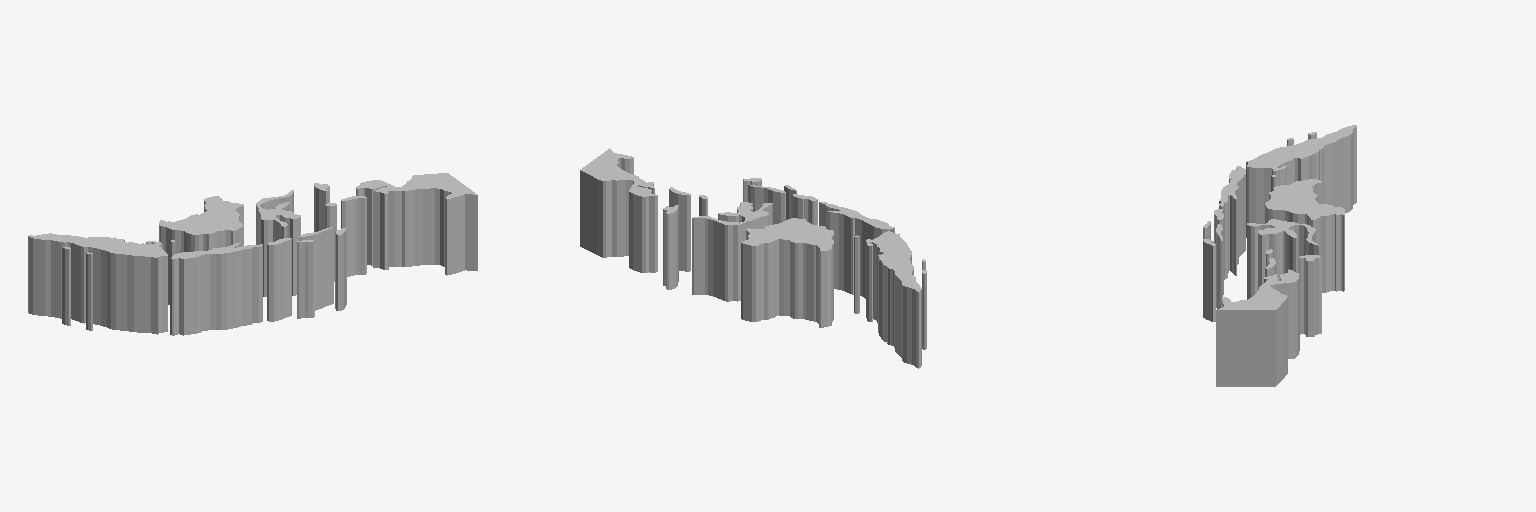
3 views of the same model, side by side, from view 1: azimuth 30°, elevation 25°; view 2: azimuth 150°, elevation 25°; view 3: azimuth 270°, elevation 25° (orthographic).
Parts seen in each view (by area): view 1: ID.002_CUCurve.1716; view 2: ID.002_CUCurve.1716; view 3: ID.002_CUCurve.1716.
Part boxes in pixels (x1,y1,x2,y2): ID.002_CUCurve.1716: (28, 173, 477, 335); ID.002_CUCurve.1716: (580, 148, 926, 368); ID.002_CUCurve.1716: (1203, 125, 1356, 386).
Size of the model in its own units: 0.2601 by 0.05 by 0.0916.